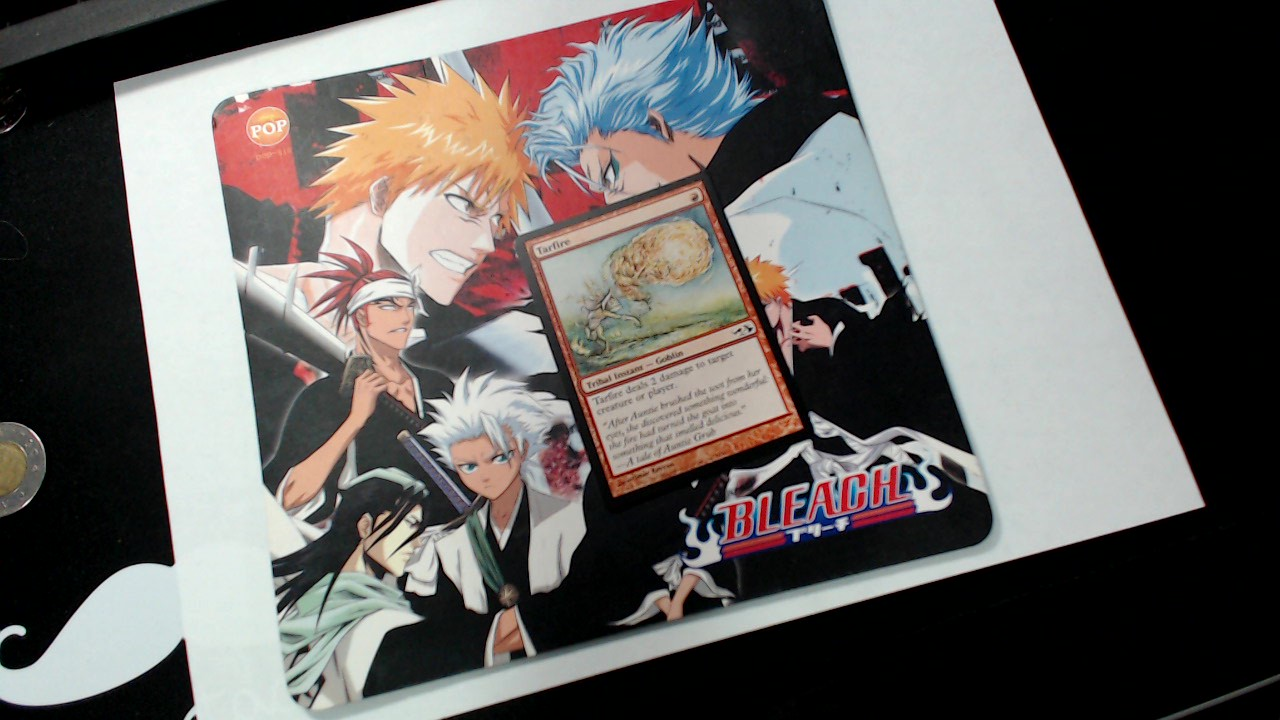MTG Card: (507, 163, 821, 508)
